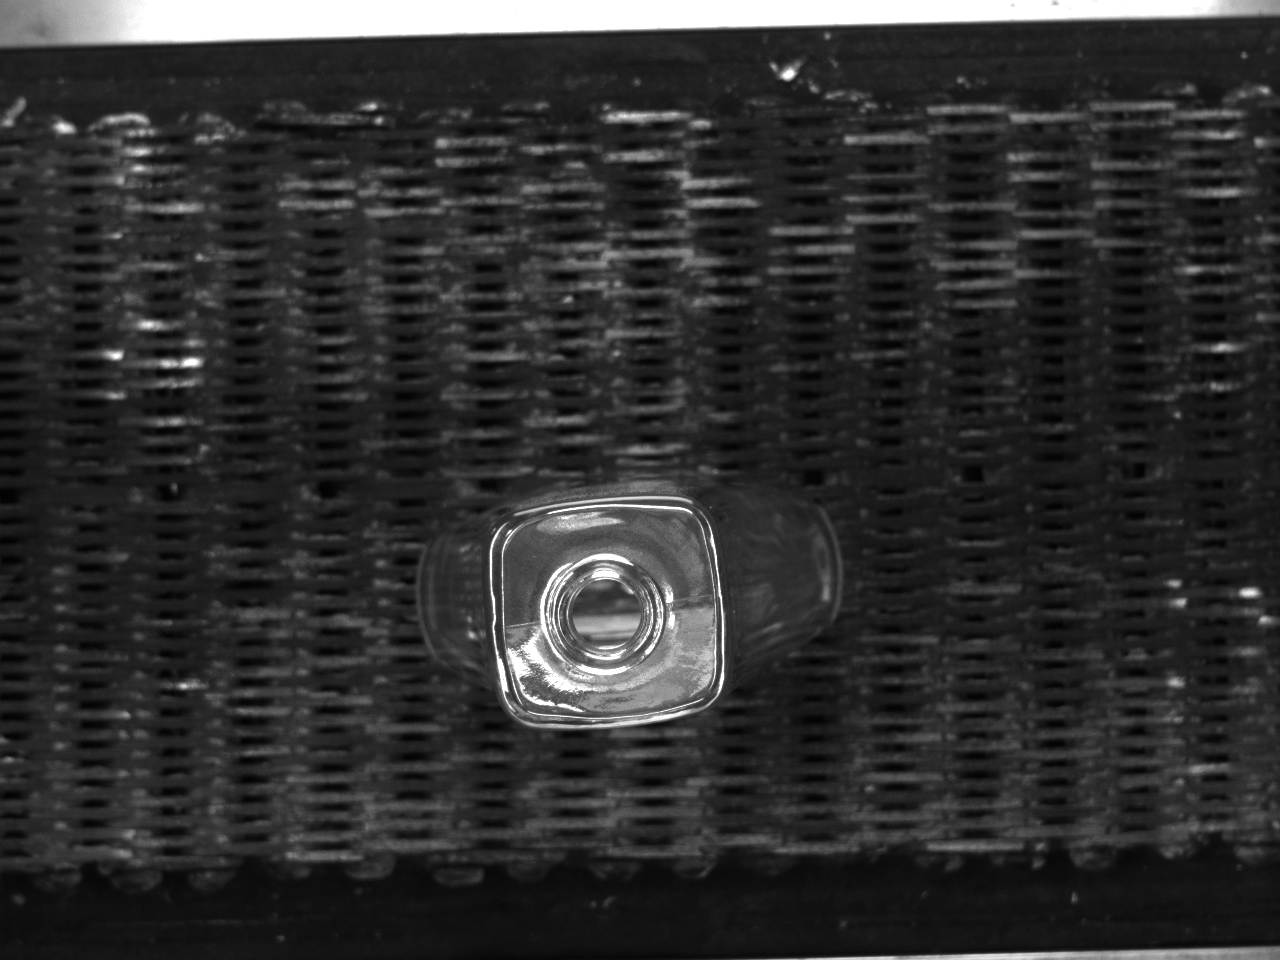bottleneck: (552, 554, 665, 671)
